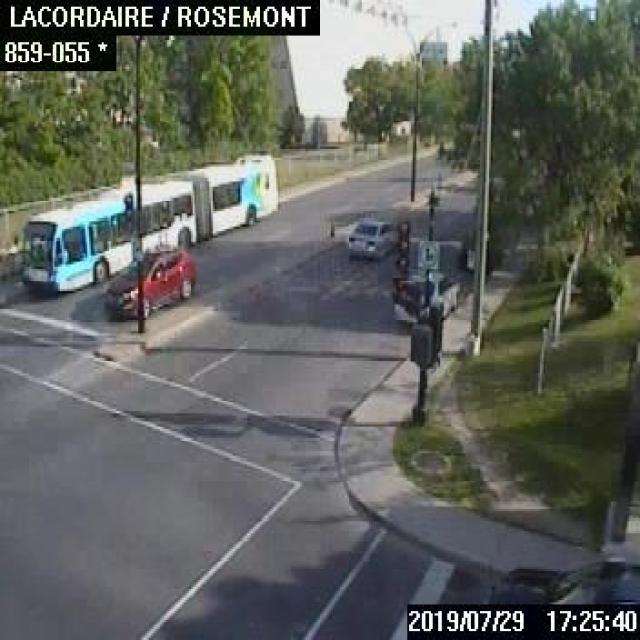bus: (13, 152, 277, 292)
vehicle: (103, 246, 192, 315), (393, 270, 459, 320), (346, 221, 398, 257)
